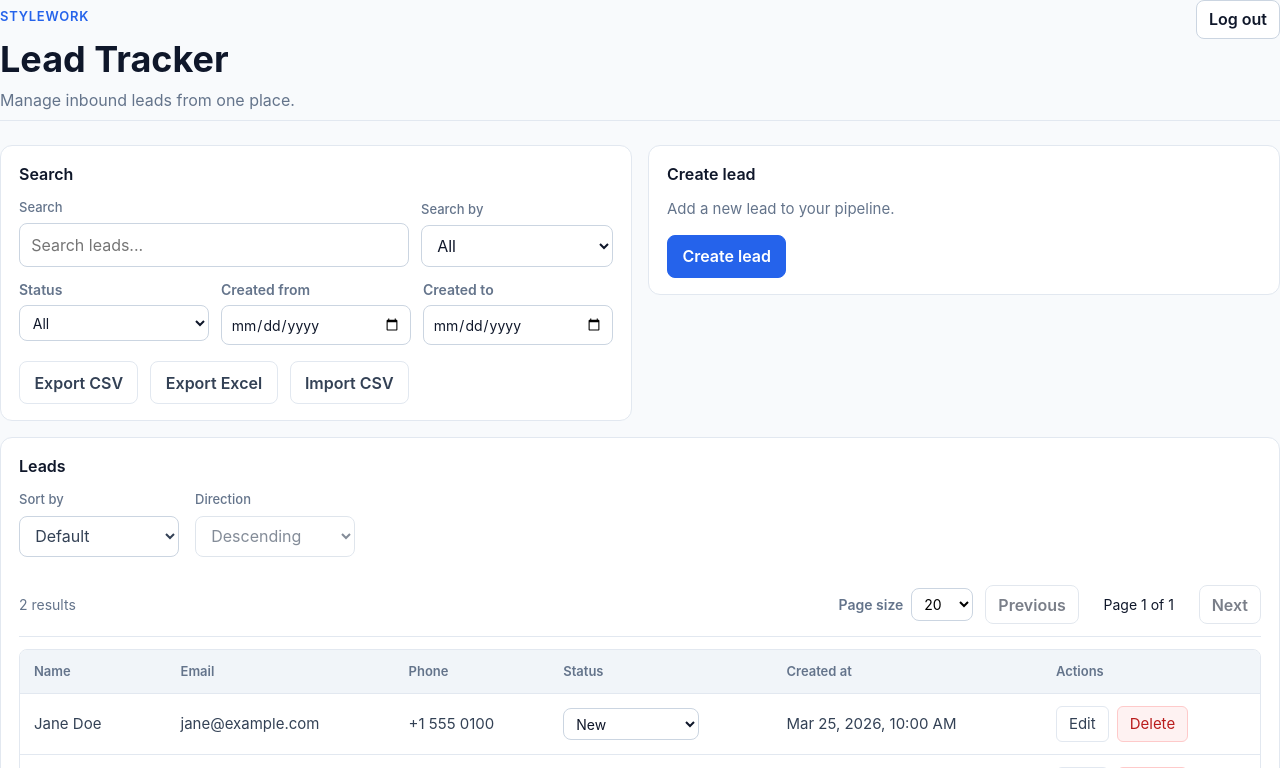
Scenario: LeadTrackerPage › create lead › opens the dialog when Create Lead is clicked
Expected: the text "Jane Doe" is shown, [20,694,166,755]
Click the button "Create lead": (727, 256) [667,235,786,278]
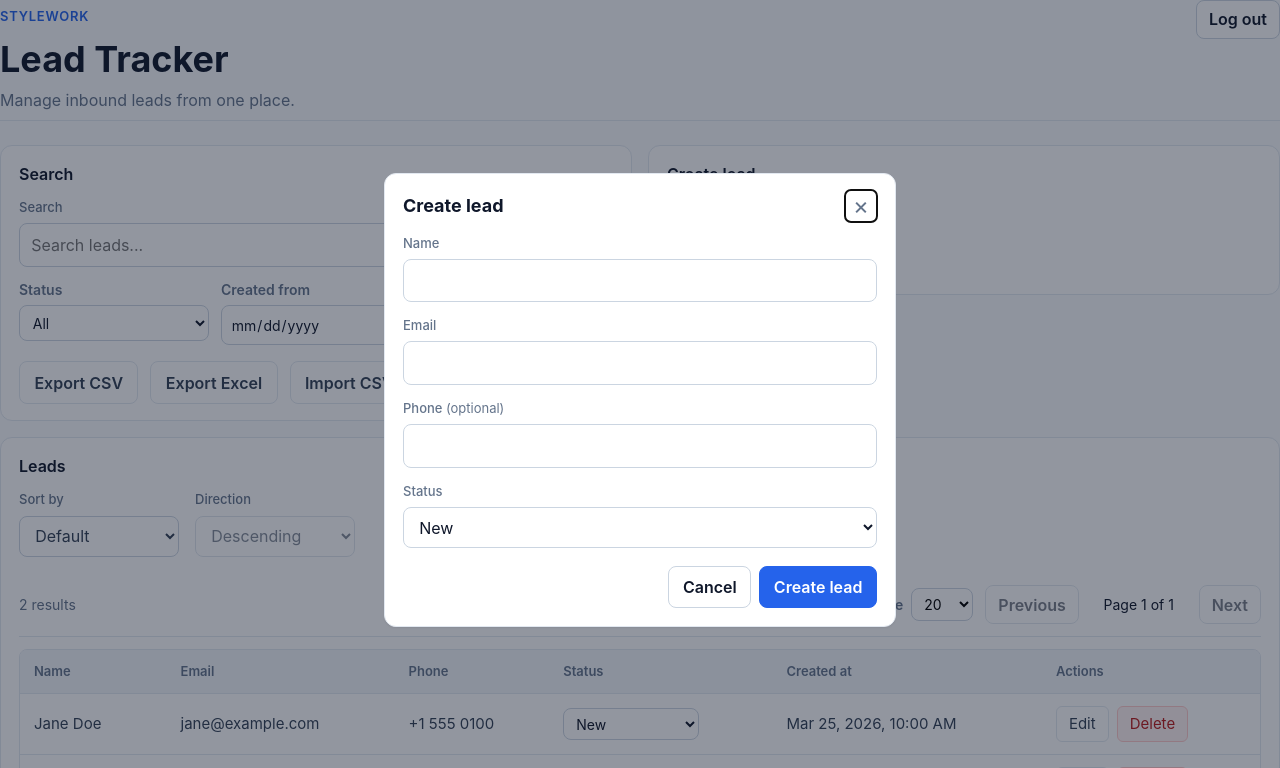
Expected: the dialog is shown, [384,173,896,627]
